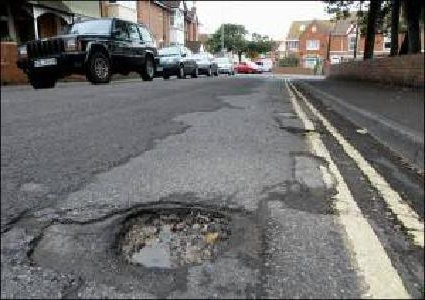pothole: (111, 202, 239, 272)
